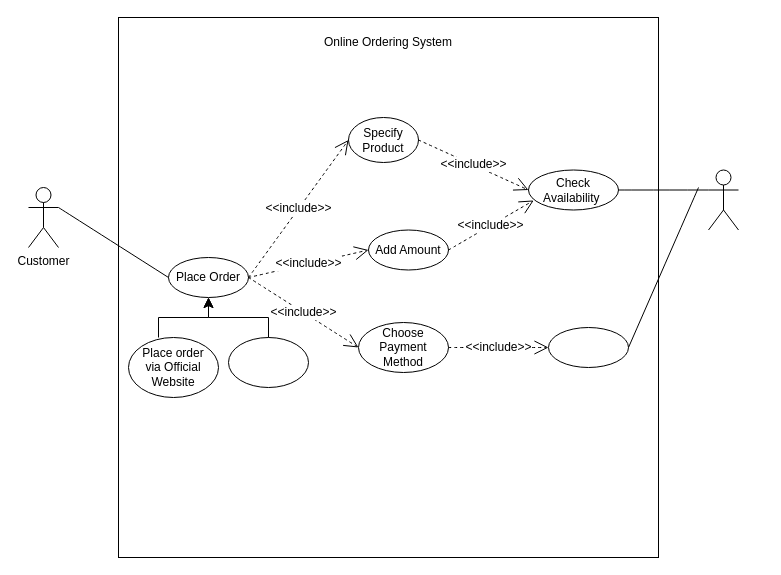
This 781x575 diagram has some shape labels left out. The shapes that lost their labels are listed below. From the top down, each one's centre as x and y in pixels, then its label:
the point at 723,199: Sales Manager
the point at 268,362: Place order via Phone
the point at 588,347: Check Credit
